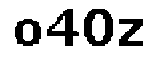0: (83, 7, 113, 50)
4: (47, 7, 80, 49)
o: (13, 18, 41, 50)
z: (116, 17, 147, 50)
